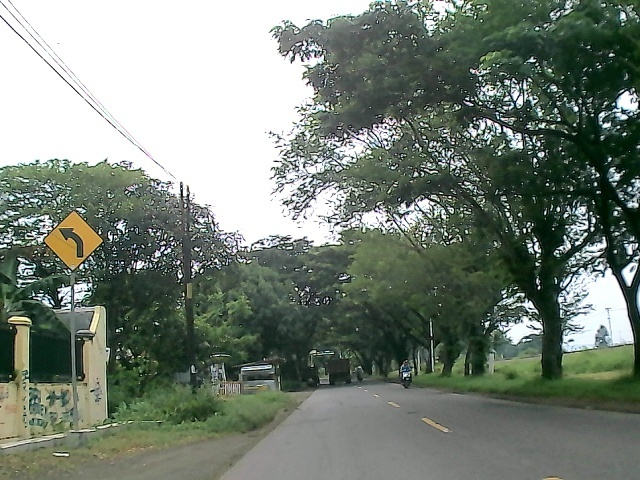Tikungan ke kiri: (41, 209, 106, 272)
